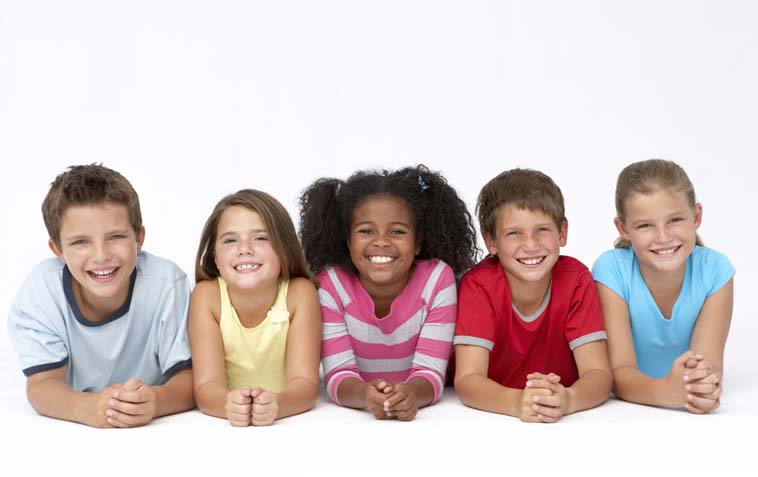human: (16, 154, 197, 443), (451, 145, 610, 427), (309, 157, 473, 421), (606, 150, 741, 432), (187, 175, 328, 444)
